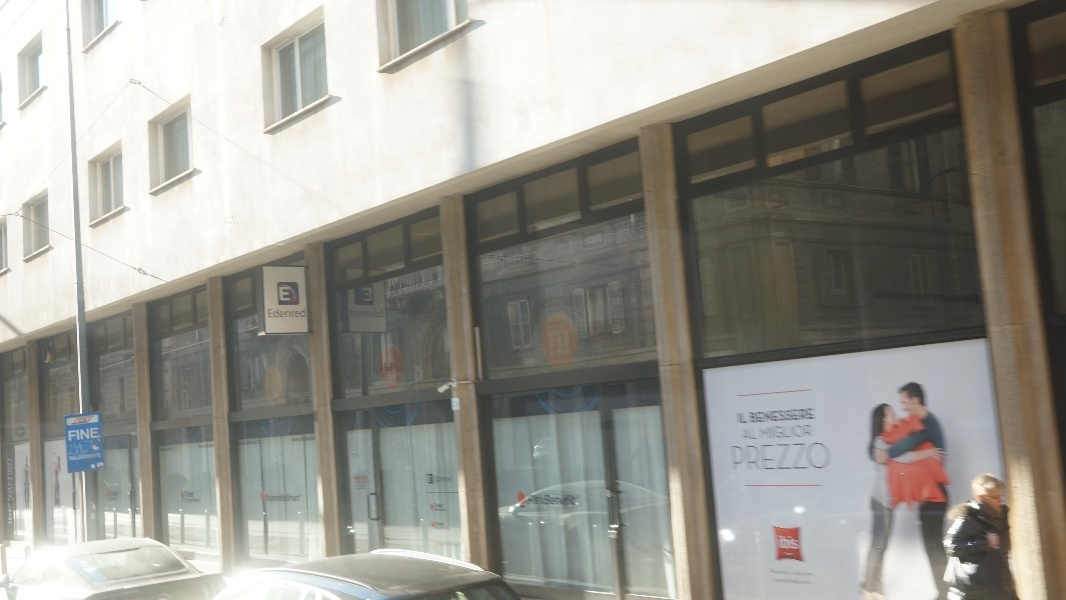text: (7, 458, 16, 525), (737, 441, 752, 475), (753, 441, 768, 475), (769, 441, 784, 475), (785, 441, 800, 475), (801, 441, 816, 475), (817, 441, 832, 475), (801, 567, 817, 587), (769, 567, 784, 587), (785, 567, 800, 587), (801, 407, 817, 425), (769, 424, 784, 442), (785, 424, 800, 442), (753, 407, 768, 425), (769, 407, 784, 425), (785, 407, 800, 425), (81, 439, 96, 456), (801, 424, 815, 442), (785, 535, 800, 551), (81, 427, 96, 442), (353, 476, 368, 490), (730, 441, 736, 475), (757, 424, 768, 442), (529, 494, 544, 507), (545, 494, 560, 507), (561, 494, 576, 507), (67, 427, 80, 442), (273, 308, 288, 321), (289, 308, 304, 321), (69, 439, 80, 456), (273, 493, 288, 505), (369, 308, 385, 319), (278, 286, 288, 303), (353, 308, 368, 319), (737, 413, 750, 425), (289, 493, 302, 505), (741, 428, 752, 442), (433, 476, 448, 485), (433, 503, 448, 512), (81, 453, 96, 462), (776, 535, 784, 551), (434, 522, 448, 531), (182, 491, 192, 503), (97, 439, 103, 456), (69, 453, 80, 462), (193, 491, 201, 503), (753, 428, 759, 442), (436, 541, 448, 548), (449, 541, 461, 548), (265, 493, 272, 505), (362, 288, 368, 302), (266, 308, 272, 321), (748, 407, 752, 425), (833, 441, 835, 475), (113, 491, 119, 502), (97, 427, 101, 442), (369, 288, 373, 302), (449, 476, 455, 485), (289, 286, 292, 303), (97, 453, 102, 462), (348, 308, 352, 319), (81, 418, 88, 423), (577, 494, 579, 507), (305, 308, 307, 321), (110, 491, 112, 502), (449, 522, 451, 531), (77, 418, 80, 423), (527, 494, 528, 507)
